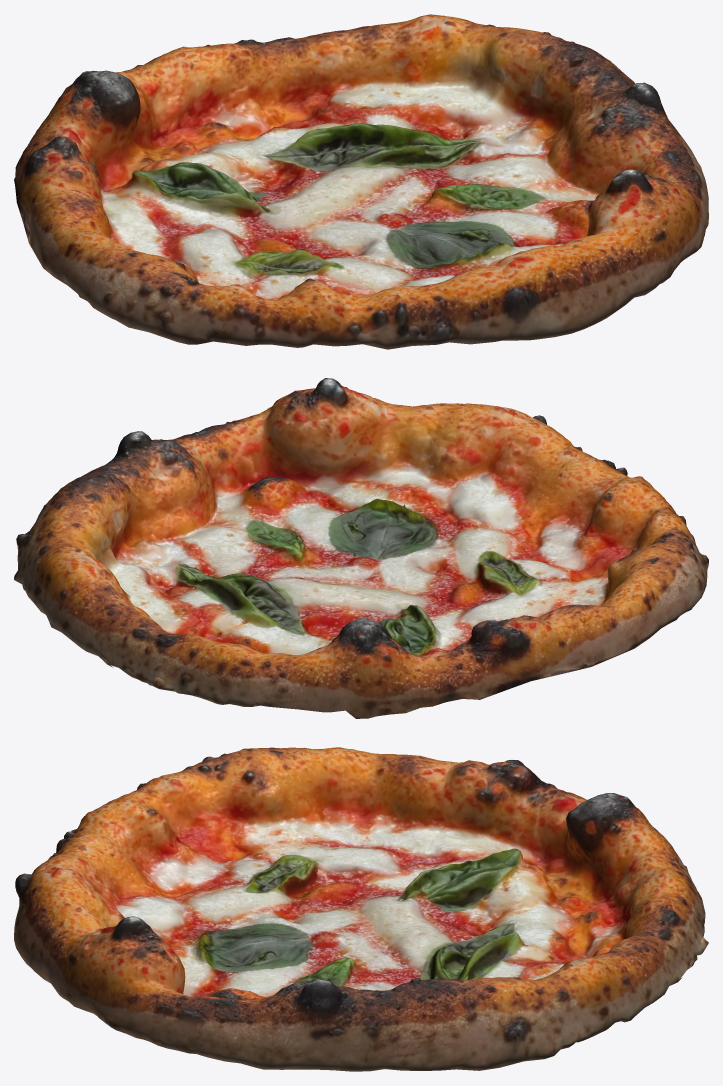
File: margaritapizza.glb
3 views of the same model, one above another, from view 1: azimuth 30°, elevation 25°; view 2: azimuth 150°, elevation 25°; view 3: azimuth 270°, elevation 25° (orthographic). The views are drawn at different scales.
Size of the model in its own units: 1.04 by 0.1753 by 1.04.
1 material, 1 textured.
